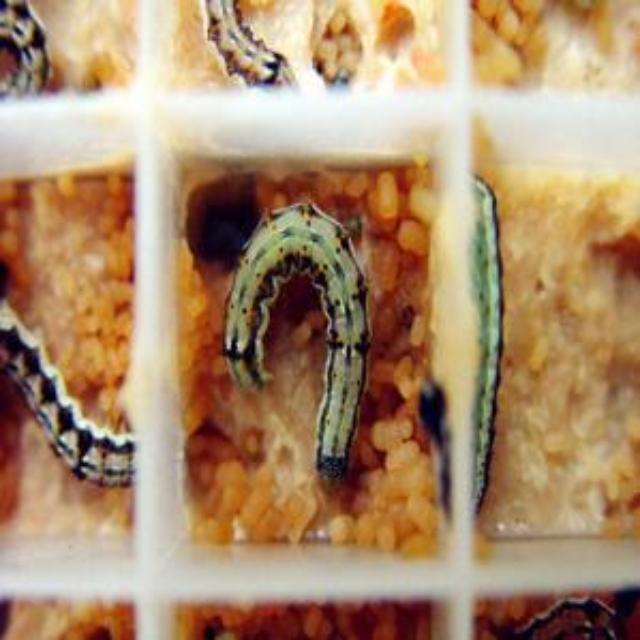Cotton bollworm: (417, 164, 579, 526), (204, 179, 383, 503), (2, 244, 138, 506), (157, 0, 321, 106), (0, 0, 81, 108)
